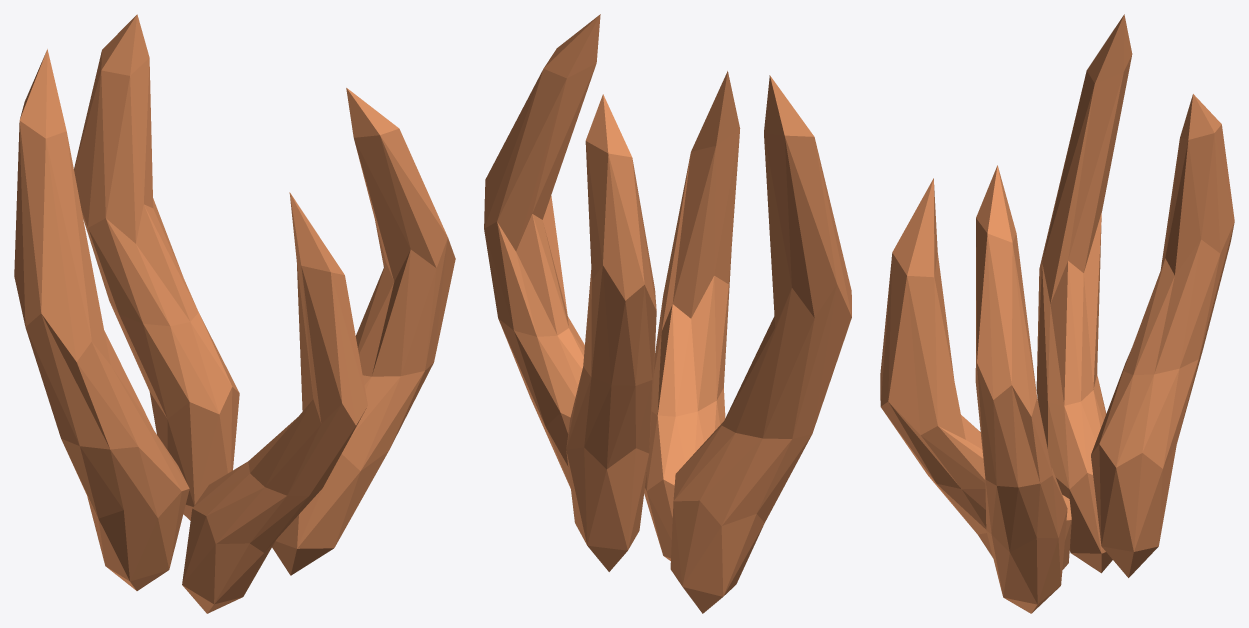
Rendered from Grass2.fbx.
3 views of the same model, side by side, from view 1: azimuth 30°, elevation 25°; view 2: azimuth 150°, elevation 25°; view 3: azimuth 270°, elevation 25° (orthographic). The views are drawn at different scales.
Parts seen in each view (by area): view 1: Icosphere.012; view 2: Icosphere.012; view 3: Icosphere.012.
Boxes of the visible parts, bbox=[...] form: Icosphere.012: bbox=[14, 14, 455, 613]; Icosphere.012: bbox=[484, 14, 851, 613]; Icosphere.012: bbox=[880, 14, 1234, 613].
Bounding box in the file's own units: 66.8 × 91.32 × 55.5.
